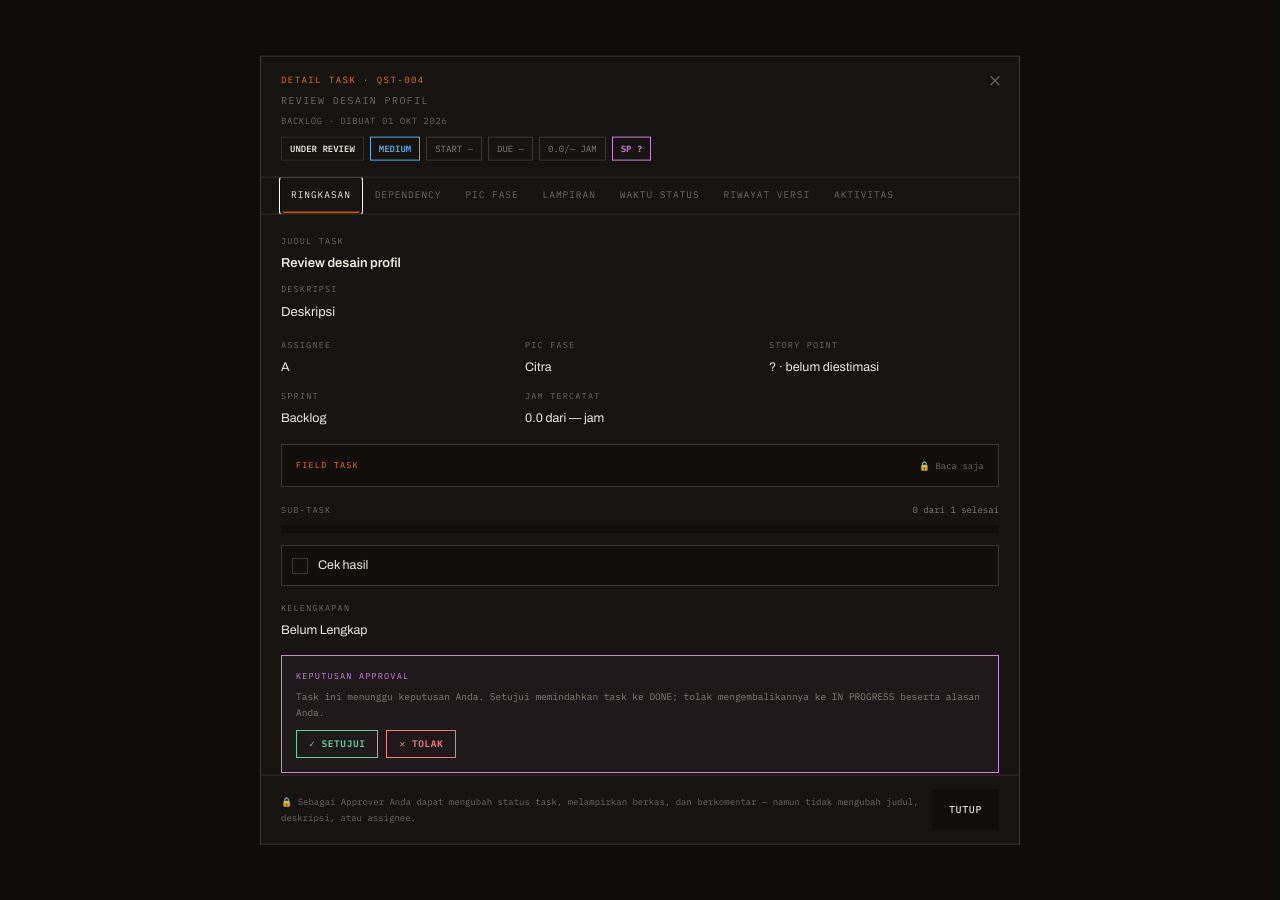
Test: TaskDetailModal mode Approver: keputusan approval › setuju: modal konfirmasi, catatan opsional, keputusan terkirim lalu notifikasi tampil
Step 1. Click the button "✓ SETUJUI" → point(337, 744), box [296,730,378,758]
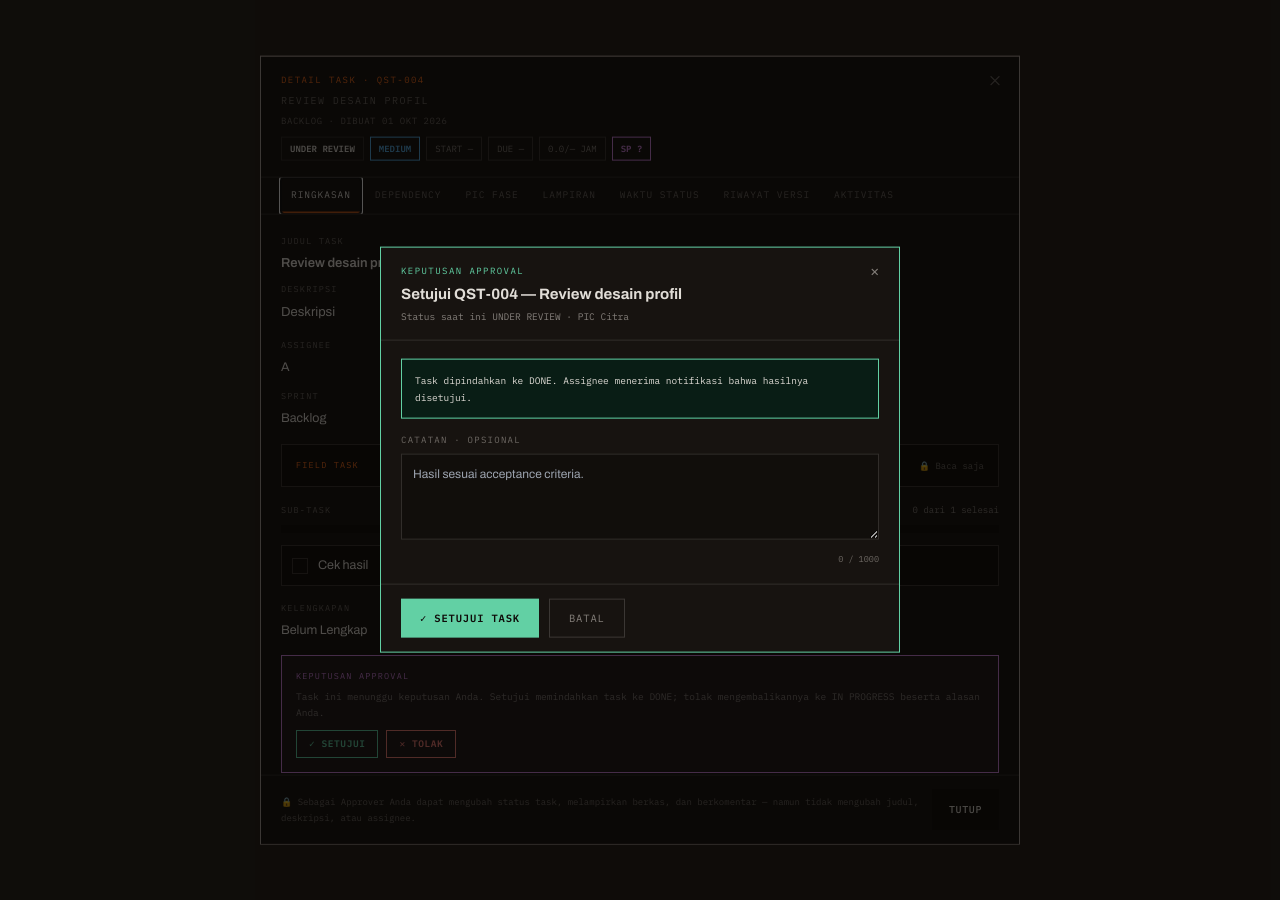
Now the text "Setujui QST-004 — Review desain profil" is shown, box [401,285,682,301]
Now the text "Status saat ini UNDER REVIEW · PIC Citra" is shown, box [401,310,629,323]
Step 2. Click the button "✓ SETUJUI TASK" → point(470, 618), box [401,598,539,638]
(page scrolled)
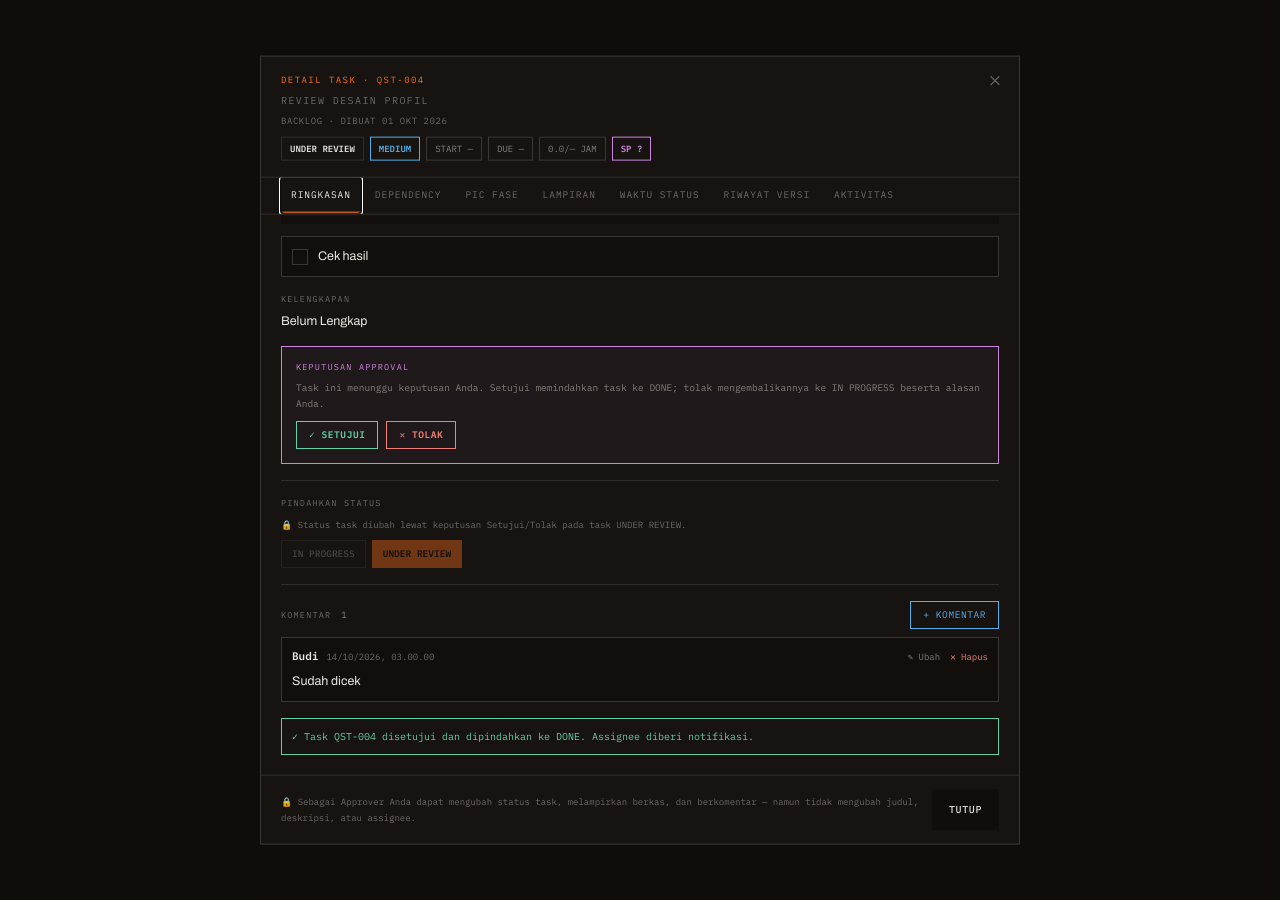
Now the text "Task QST-004 disetujui dan dipindahkan ke DONE" is shown, box [304,729,754,742]
Now the text "Setujui QST-004" is gone
